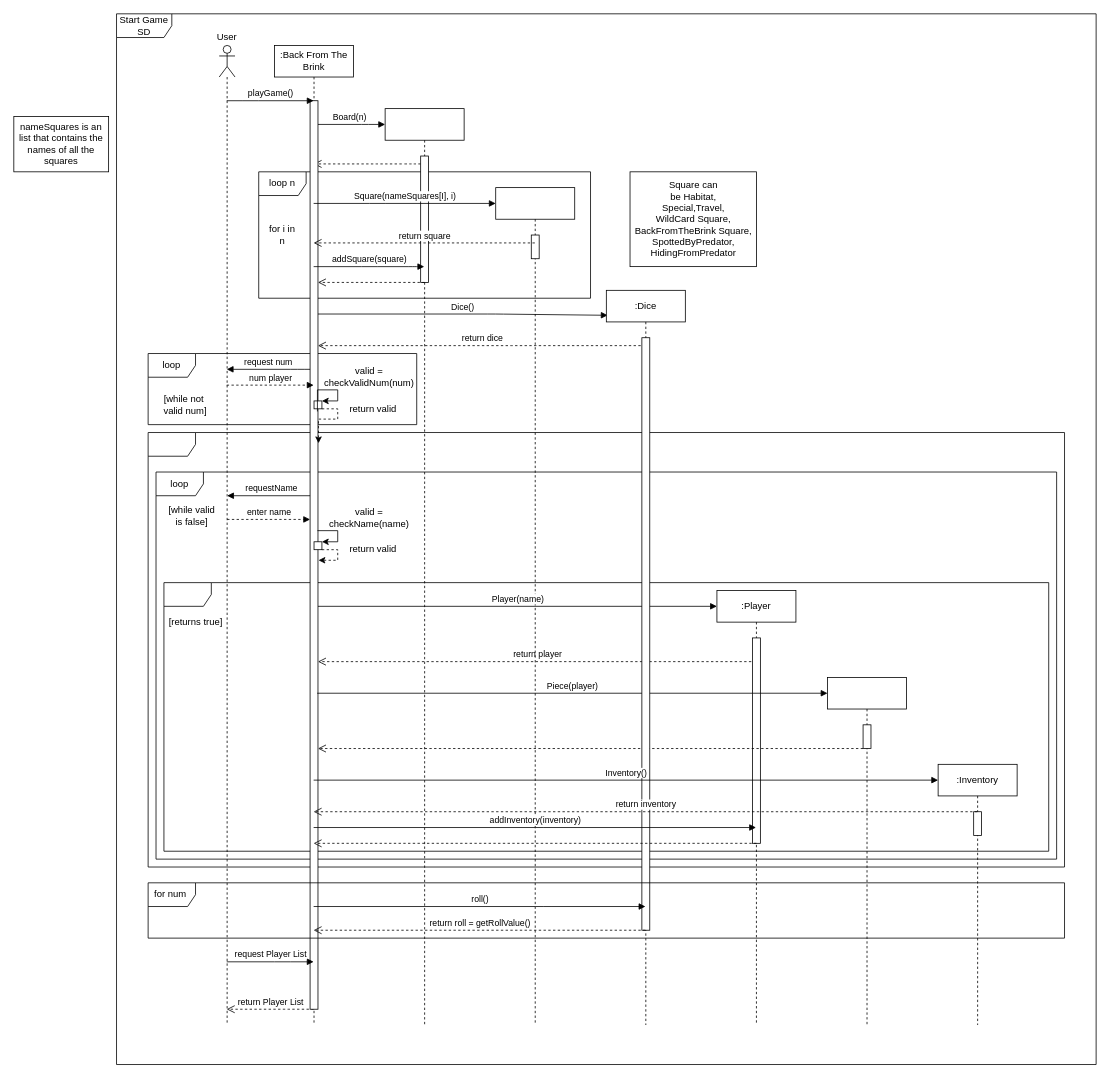
Some shapes in this 1110 by 1078 pixel diagram are drawn without their labels. Each missing label, with the box of its shape:
:Board: (384, 108, 464, 1025)
:Piece: (827, 677, 907, 1025)
:Square: (495, 187, 575, 1025)
break: (163, 582, 1049, 851)
loop num: (147, 432, 1065, 867)
